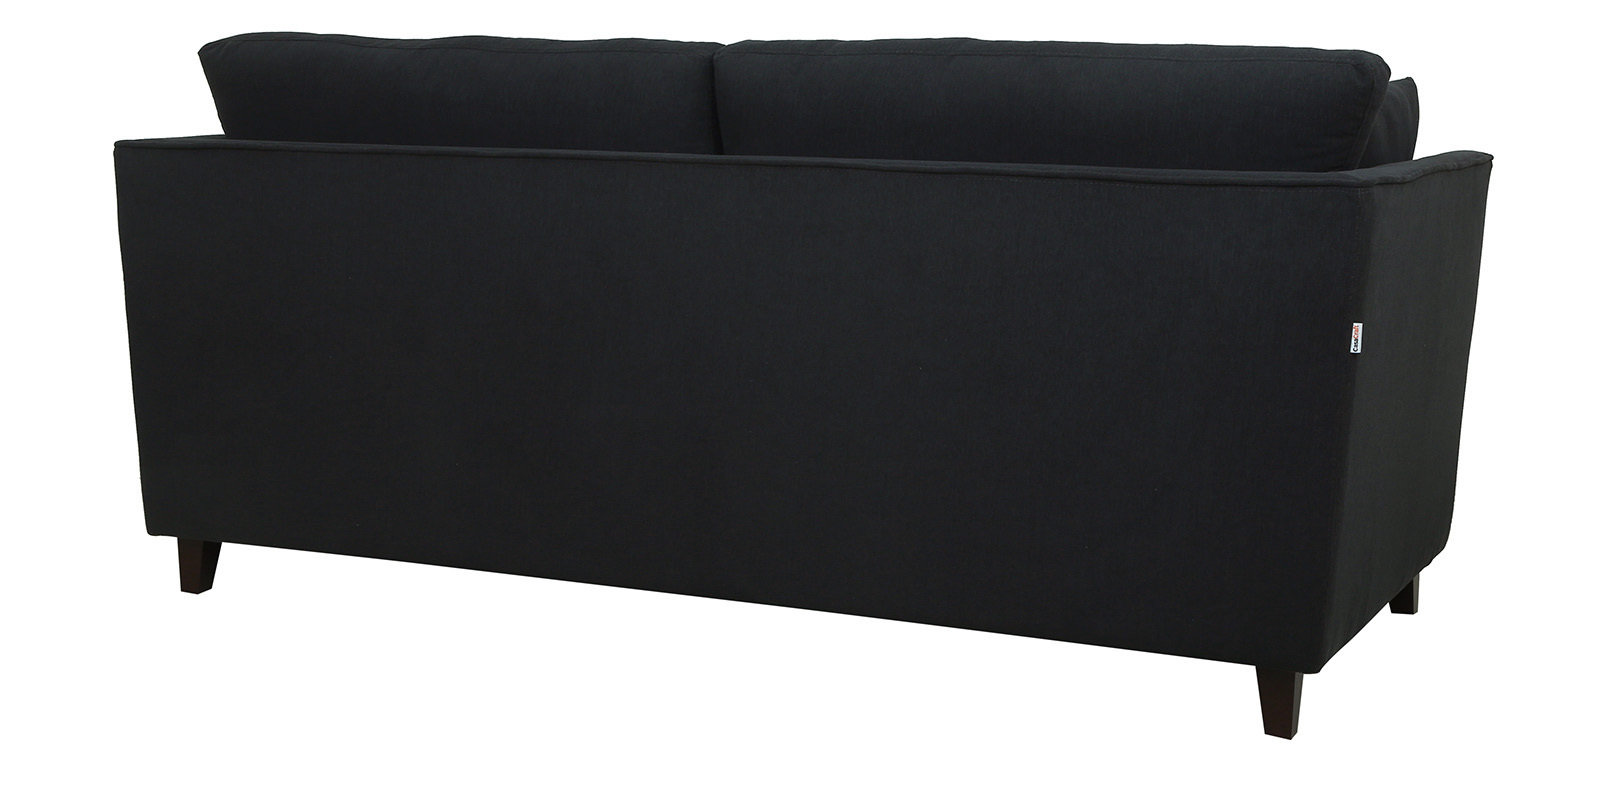Miranda Three Seater Sofa in Charcoal Grey Colour by CasaCraft: (111, 28, 1497, 741)
